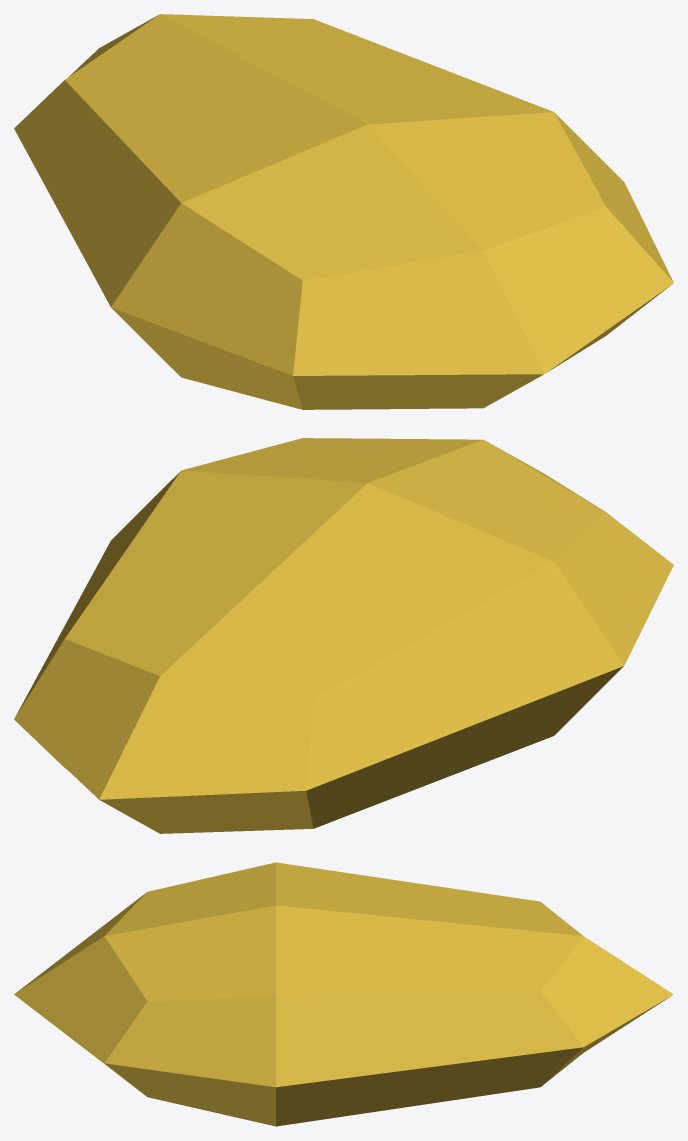
Rendered from TEX_seed_2.fbx.
3 views of the same model, one above another, from view 1: azimuth 30°, elevation 25°; view 2: azimuth 150°, elevation 25°; view 3: azimuth 270°, elevation 25° (orthographic). The views are drawn at different scales.
Visible parts, largest first — view 1: F_Seed; view 2: F_Seed; view 3: F_Seed.
Boxes of the visible parts, x1=… form: F_Seed: x1=14, y1=14, x2=673, y2=409; F_Seed: x1=14, y1=438, x2=673, y2=833; F_Seed: x1=14, y1=862, x2=673, y2=1126.
Bounding box in the file's own units: 5.43 × 2.43 × 8.15.
Materials: 1 (1 with a texture image).
